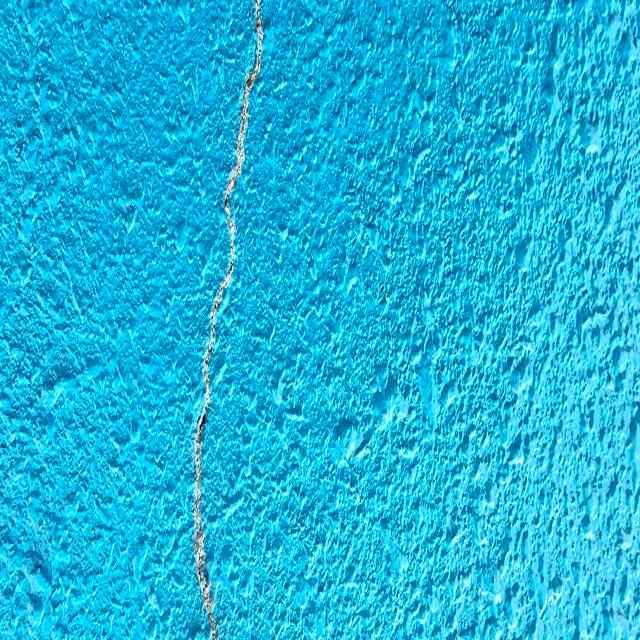SurfaceCrack: (139, 1, 320, 640)
